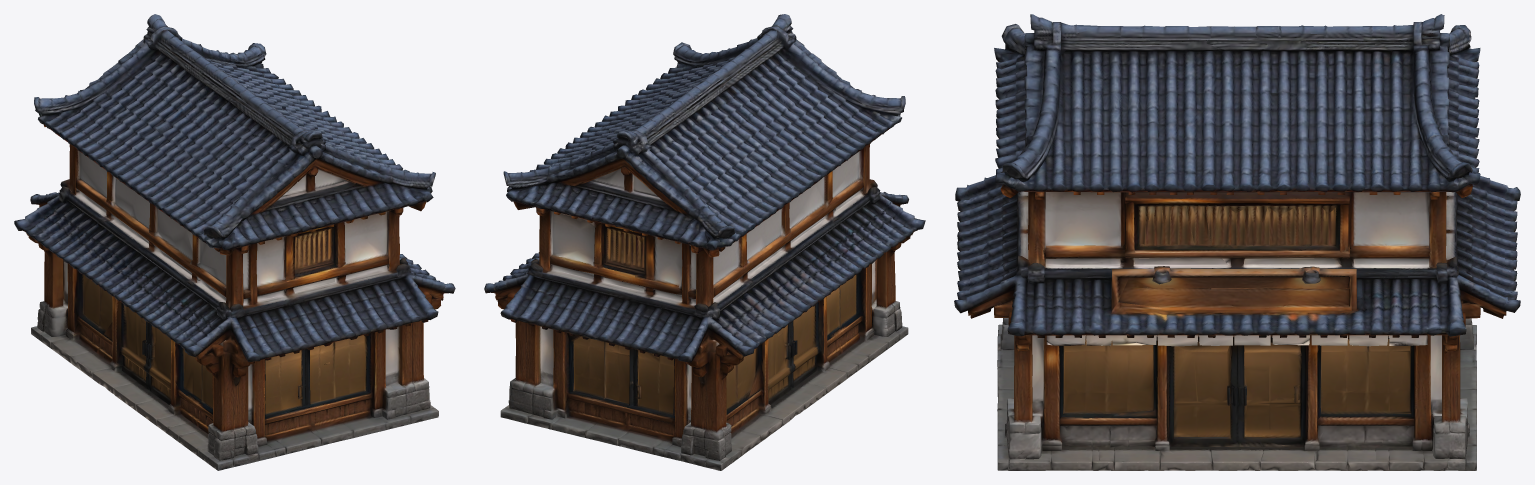
The model's file is level-2-web.glb.
3 views of the same model, side by side, from view 1: azimuth 30°, elevation 25°; view 2: azimuth 150°, elevation 25°; view 3: azimuth 270°, elevation 25° (orthographic). The views are drawn at different scales.
Parts seen in each view (by area): view 1: tripo_node_2f23357a-4f46-4f3f-8741-fdb46e8d90e6; view 2: tripo_node_2f23357a-4f46-4f3f-8741-fdb46e8d90e6; view 3: tripo_node_2f23357a-4f46-4f3f-8741-fdb46e8d90e6.
Part boxes in pixels (left/top/right/bottom): tripo_node_2f23357a-4f46-4f3f-8741-fdb46e8d90e6: left=14, top=14, right=455, bottom=470; tripo_node_2f23357a-4f46-4f3f-8741-fdb46e8d90e6: left=484, top=14, right=925, bottom=470; tripo_node_2f23357a-4f46-4f3f-8741-fdb46e8d90e6: left=954, top=14, right=1520, bottom=470.
Size of the model in its own units: 0.6826 by 0.7411 by 0.9817.
1 material, 1 textured.
